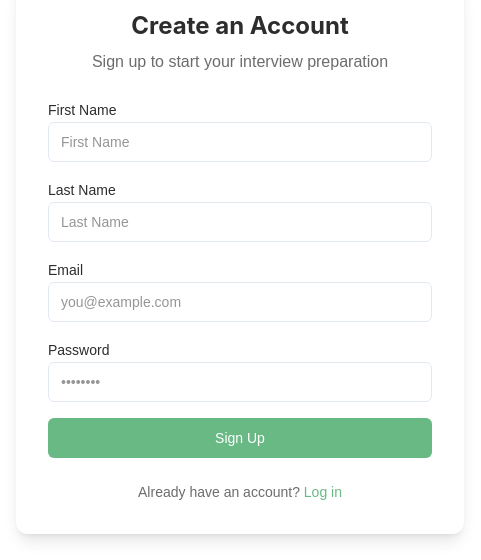
Test: SignUp Auth Integration › Complete Signup Flow › should handle loading states during signup process
The image size is (481, 560).
// Fill and submit form
Type "John" into the field labelled "First Name" at {"x": 240, "y": 142}, box [48,122,432,162]
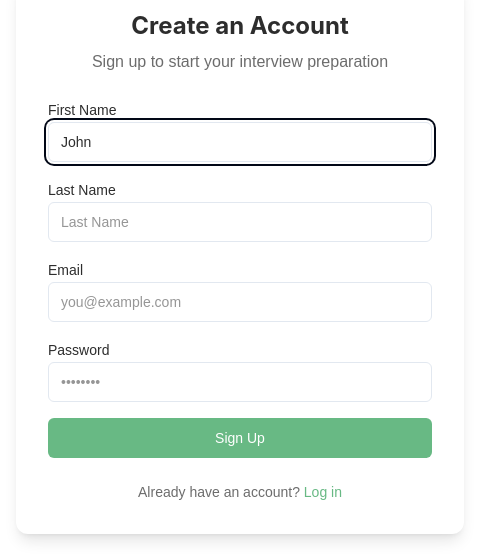
Type "Doe" into the field labelled "Last Name" at {"x": 240, "y": 222}, box [48,202,432,242]
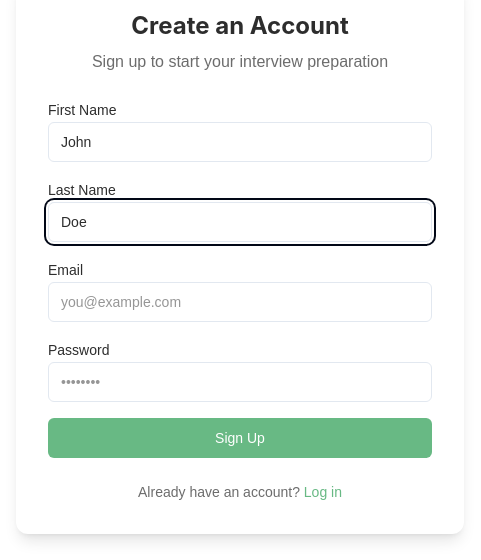
Type "john@example.com" into the field labelled "Email" at {"x": 240, "y": 302}, box [48,282,432,322]
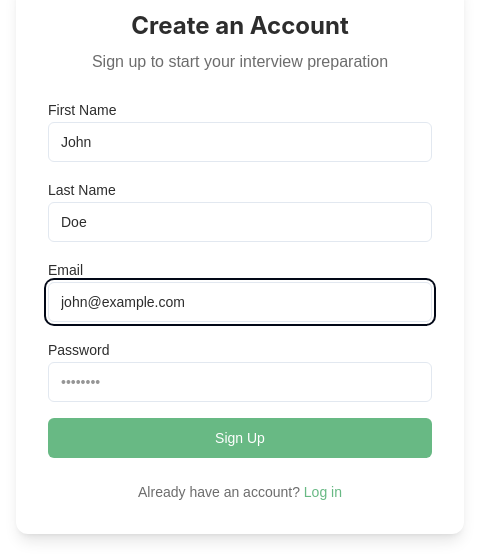
Type "password123" into the password field labelled "Password" at {"x": 240, "y": 382}, box [48,362,432,402]
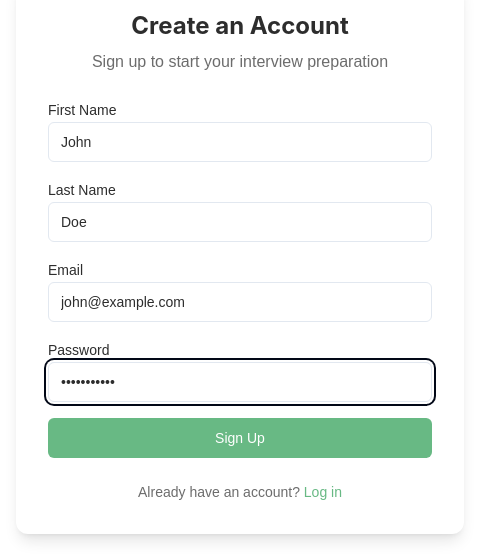
Click the button "Sign Up" at {"x": 240, "y": 438}, box [48,418,432,458]
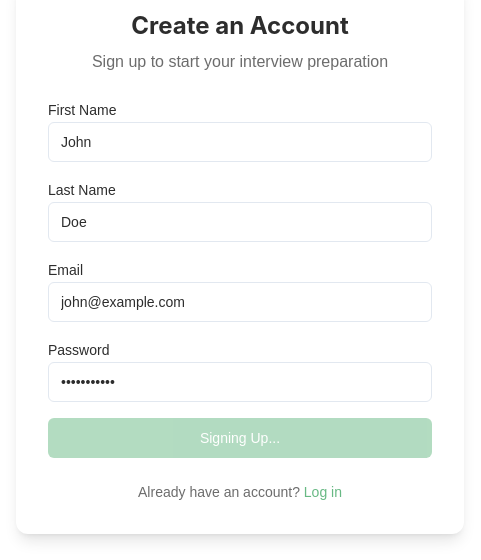
Result: the button "Signing Up..." is disabled at [48,418,432,458]
